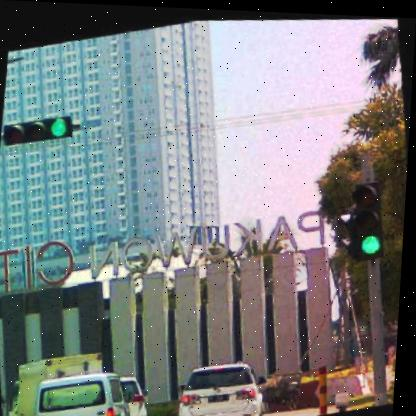Traffic Light -Green-: (349, 175, 391, 260), (2, 110, 74, 147)
